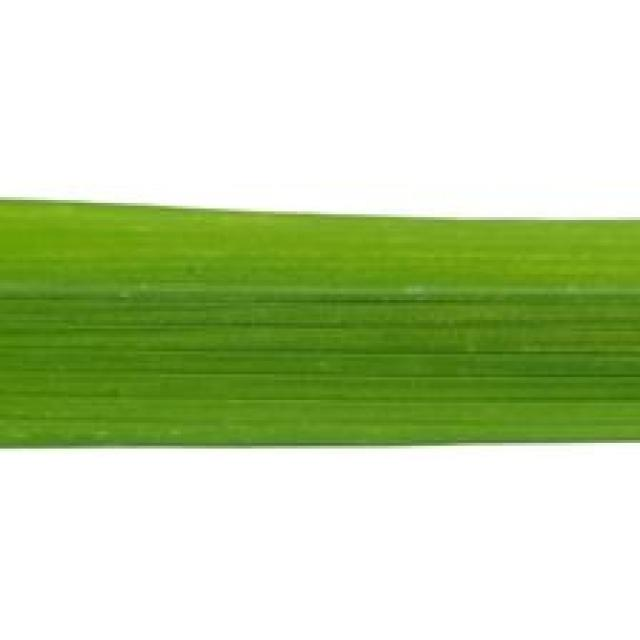Rice___Healthy_Rice_Plant: (0, 198, 637, 447)
